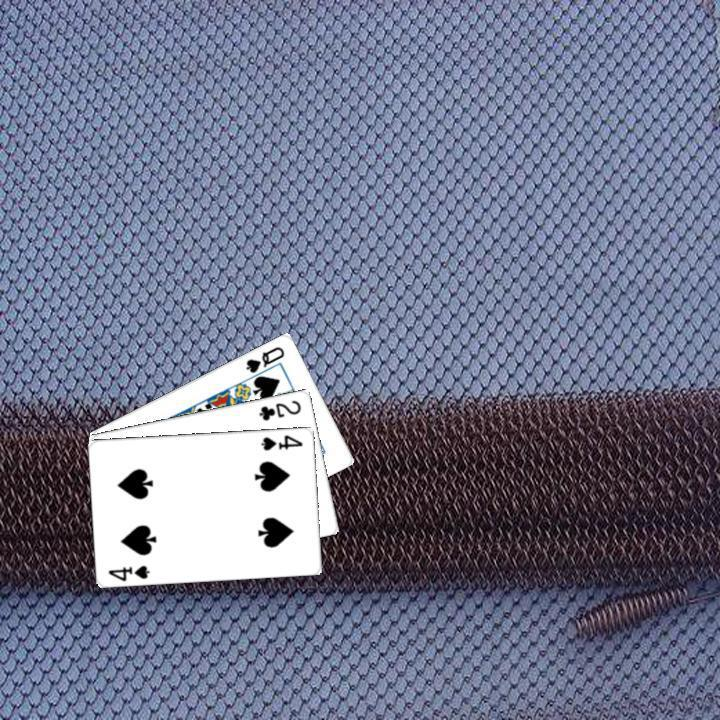2: (255, 395, 303, 422)
4: (257, 430, 305, 452), (104, 561, 152, 583)
Q: (241, 342, 287, 375)
